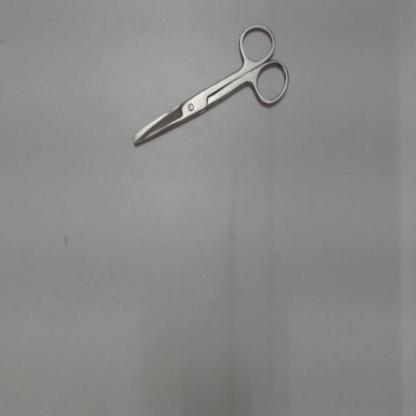Dressing Scissors: (119, 13, 300, 161)
